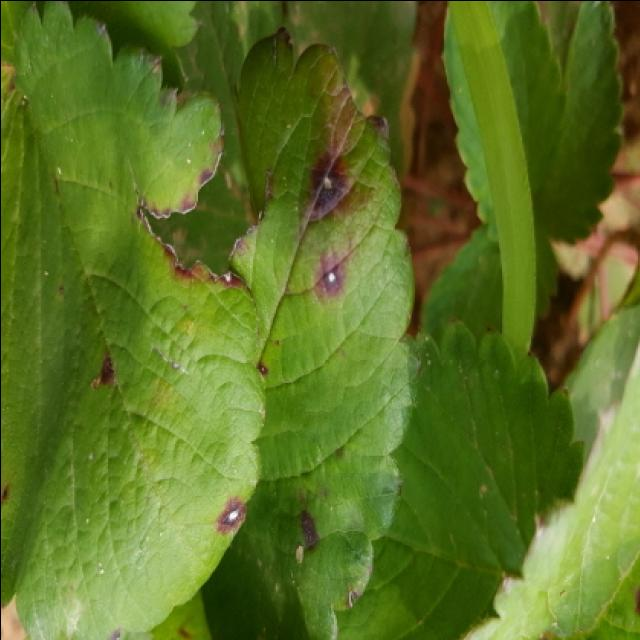Leaf Spot: (2, 2, 267, 640), (199, 25, 420, 640)
